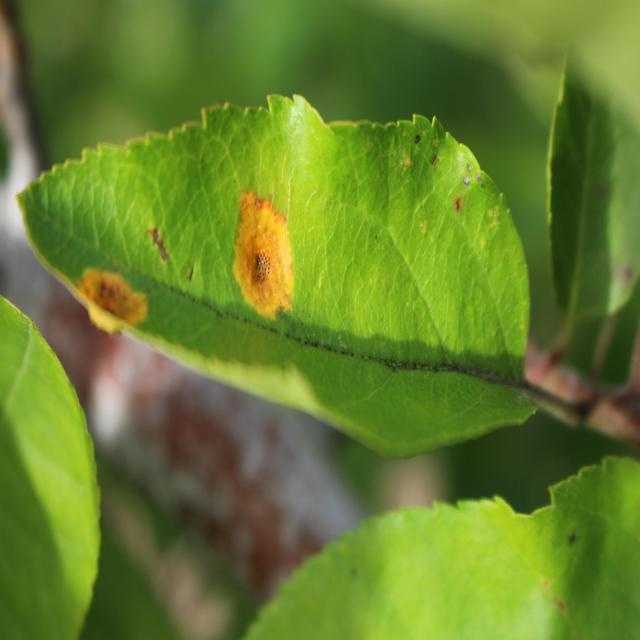Rust: (228, 164, 302, 330), (64, 260, 160, 349)
